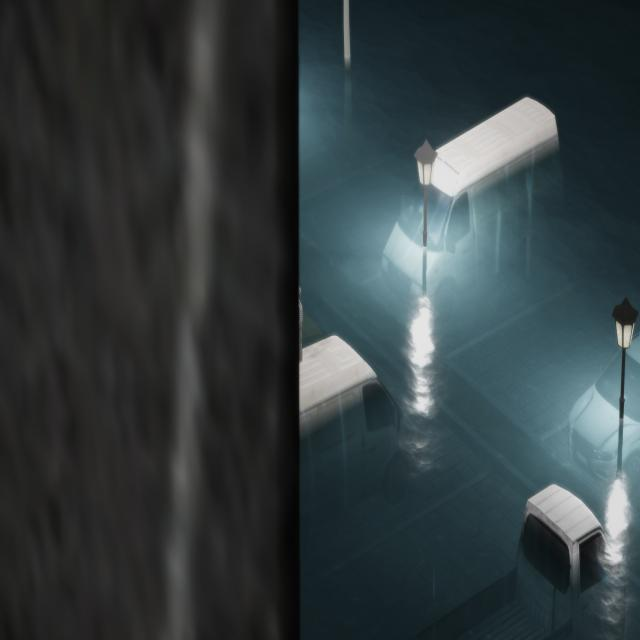Human: (294, 286, 308, 368)
